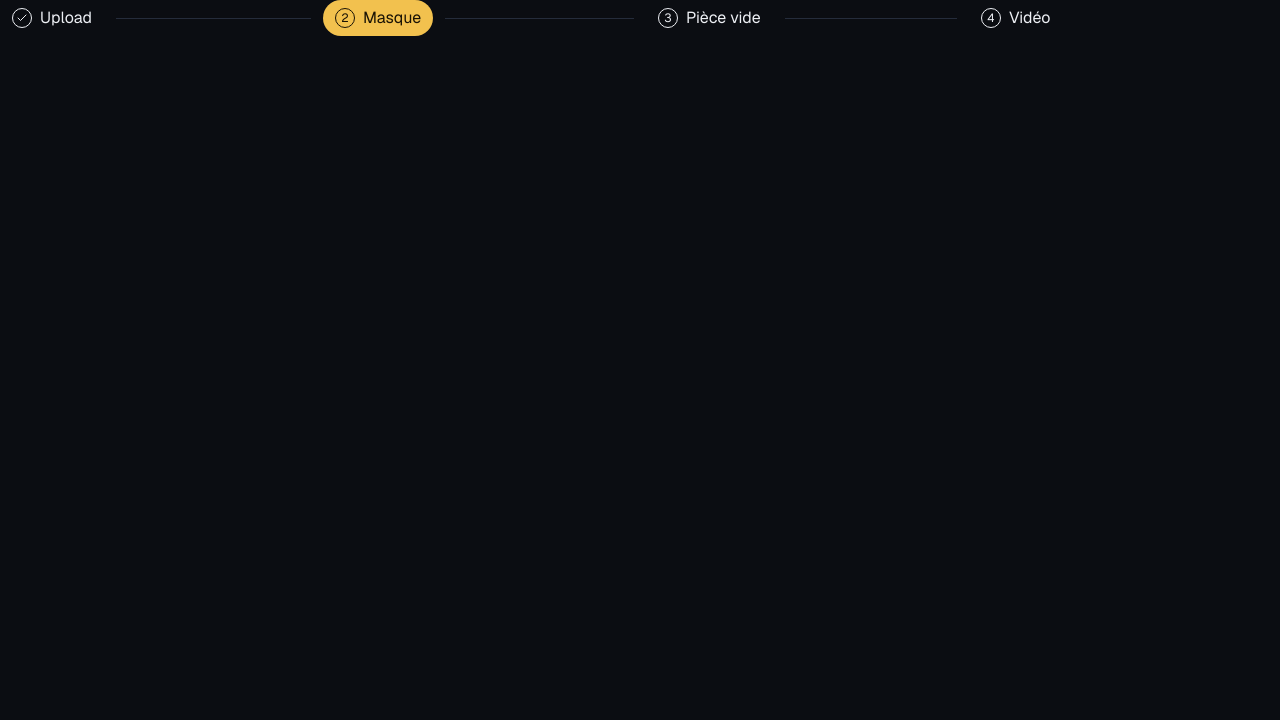
Stepper re-advance confirmation (AC3) › Continuer advances to the reopened step and invalidates downstream (reveal gone)
What coordinates should you click on to do the following:
click the button "3 Pièce vide"
I would click on:
 (709, 18)
Its box is left=646, top=0, right=773, bottom=36.
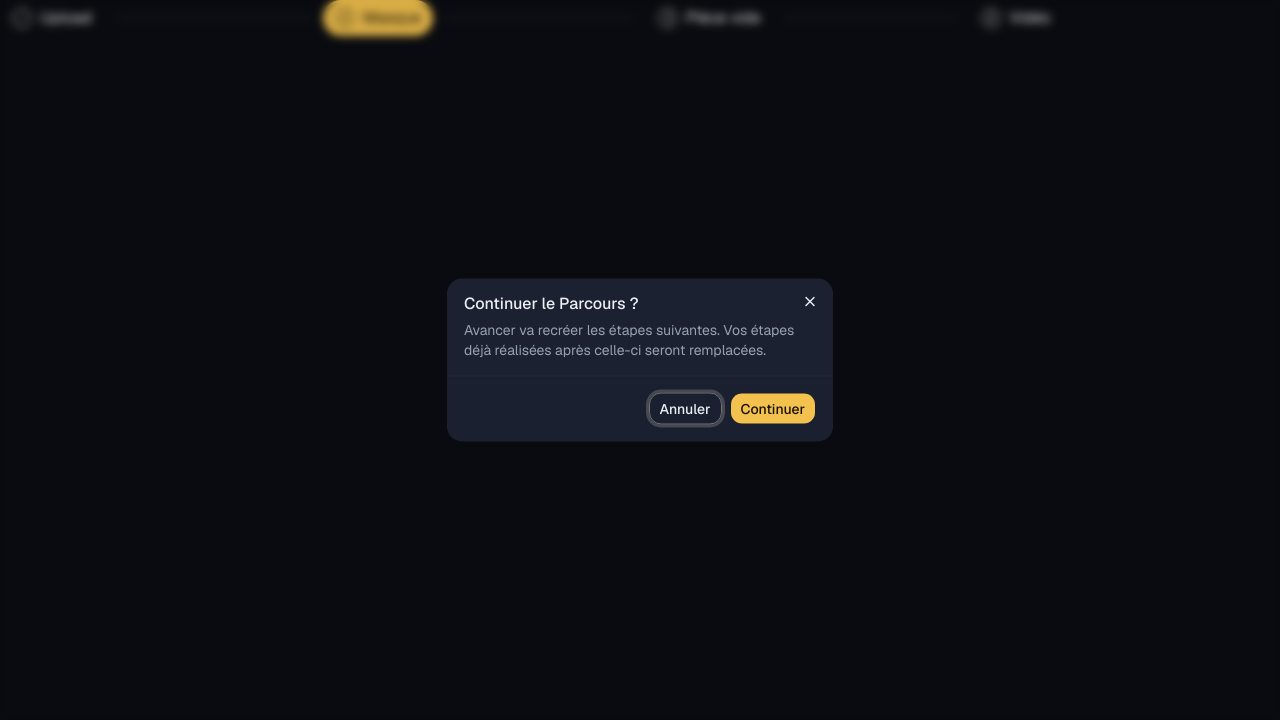
What coordinates should you click on to do the following:
click the button "Continuer"
I would click on:
 (773, 408)
Its box is left=730, top=392, right=816, bottom=424.
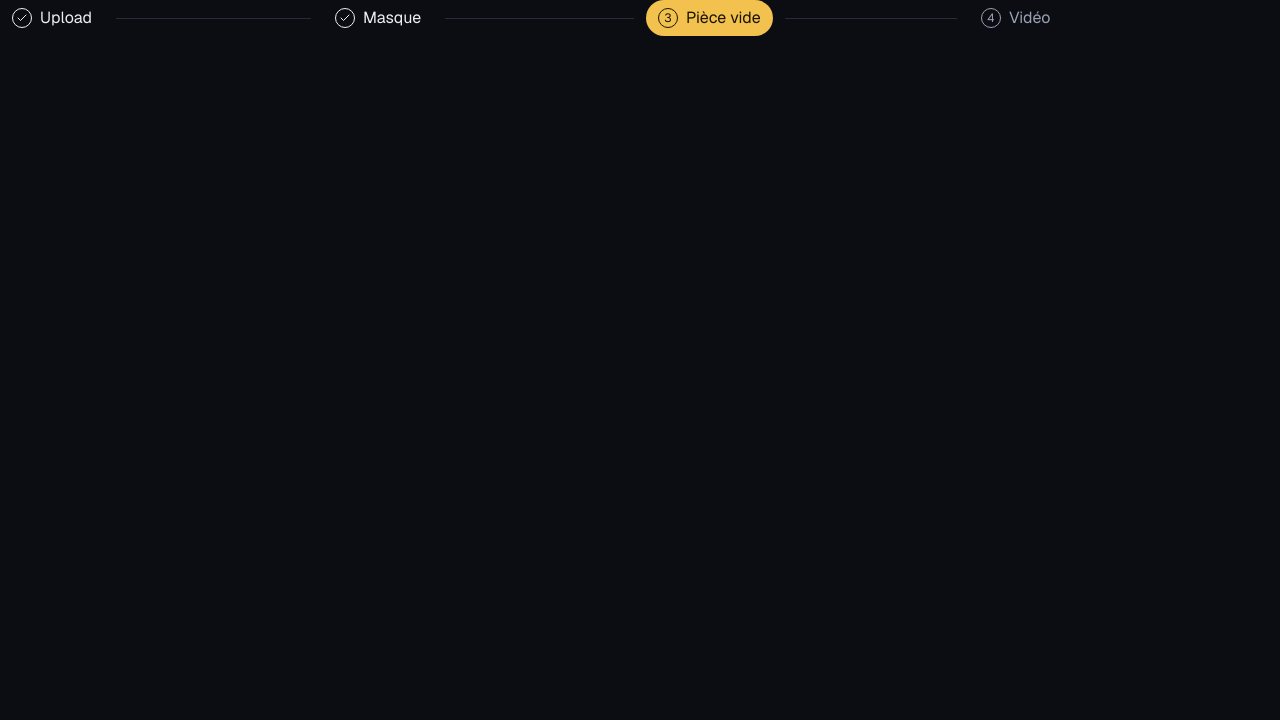
expect the button "4 Vidéo" is disabled: met, box left=969, top=0, right=1062, bottom=36
